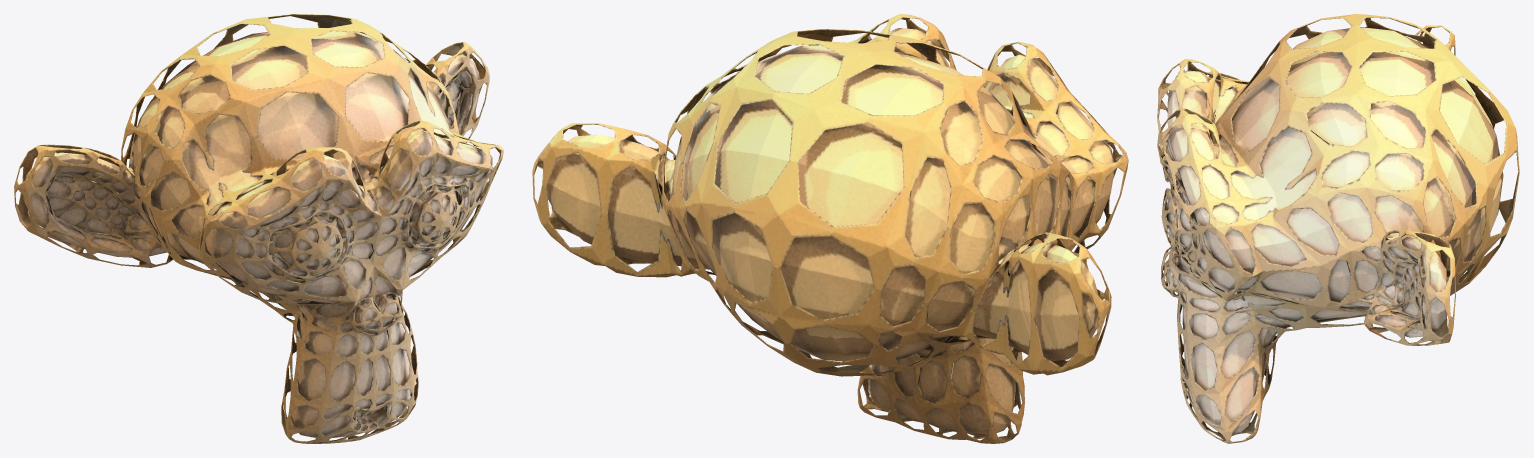
File: model_suzanne.glb
3 views of the same model, side by side, from view 1: azimuth 30°, elevation 25°; view 2: azimuth 150°, elevation 25°; view 3: azimuth 270°, elevation 25° (orthographic). The views are drawn at different scales.
Parts seen in each view (by area): view 1: Suzanne_Mesh.002; view 2: Suzanne_Mesh.002; view 3: Suzanne_Mesh.002.
Boxes of the visible parts, x1,y1,x2,y2 form: Suzanne_Mesh.002: (14,14,503,443); Suzanne_Mesh.002: (532,14,1128,443); Suzanne_Mesh.002: (1157,14,1519,443).
Bounding box in the file's own units: 5.5 × 3.99 × 3.44.
1 material, 1 textured.
